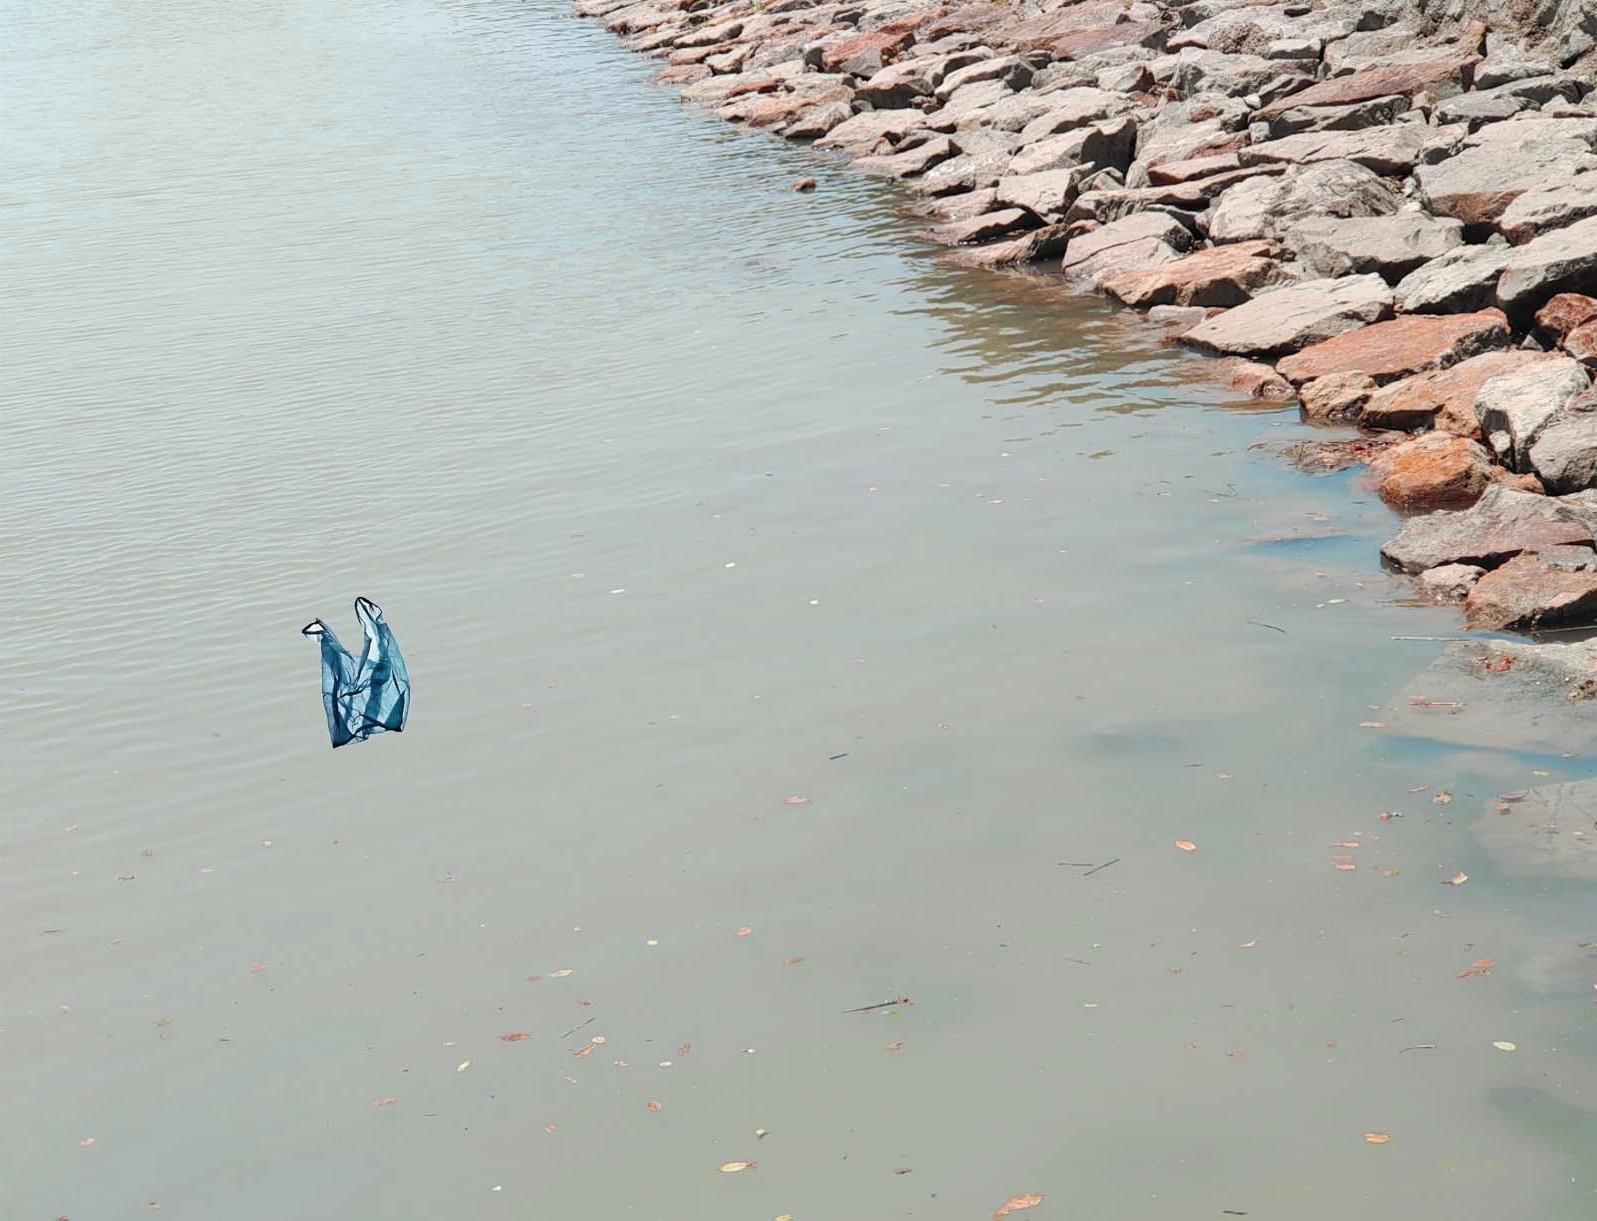Trash: (300, 593, 414, 759)
